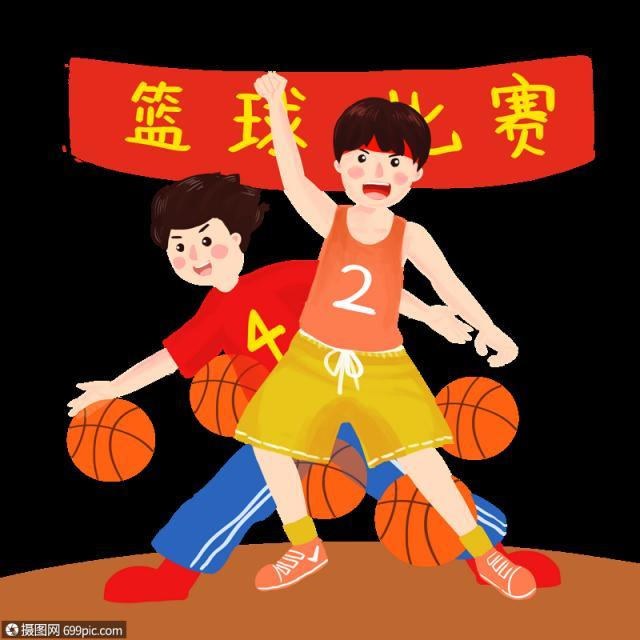rim: (380, 473, 470, 565), (67, 398, 155, 479), (440, 380, 518, 458), (298, 434, 368, 518), (195, 354, 262, 434)
